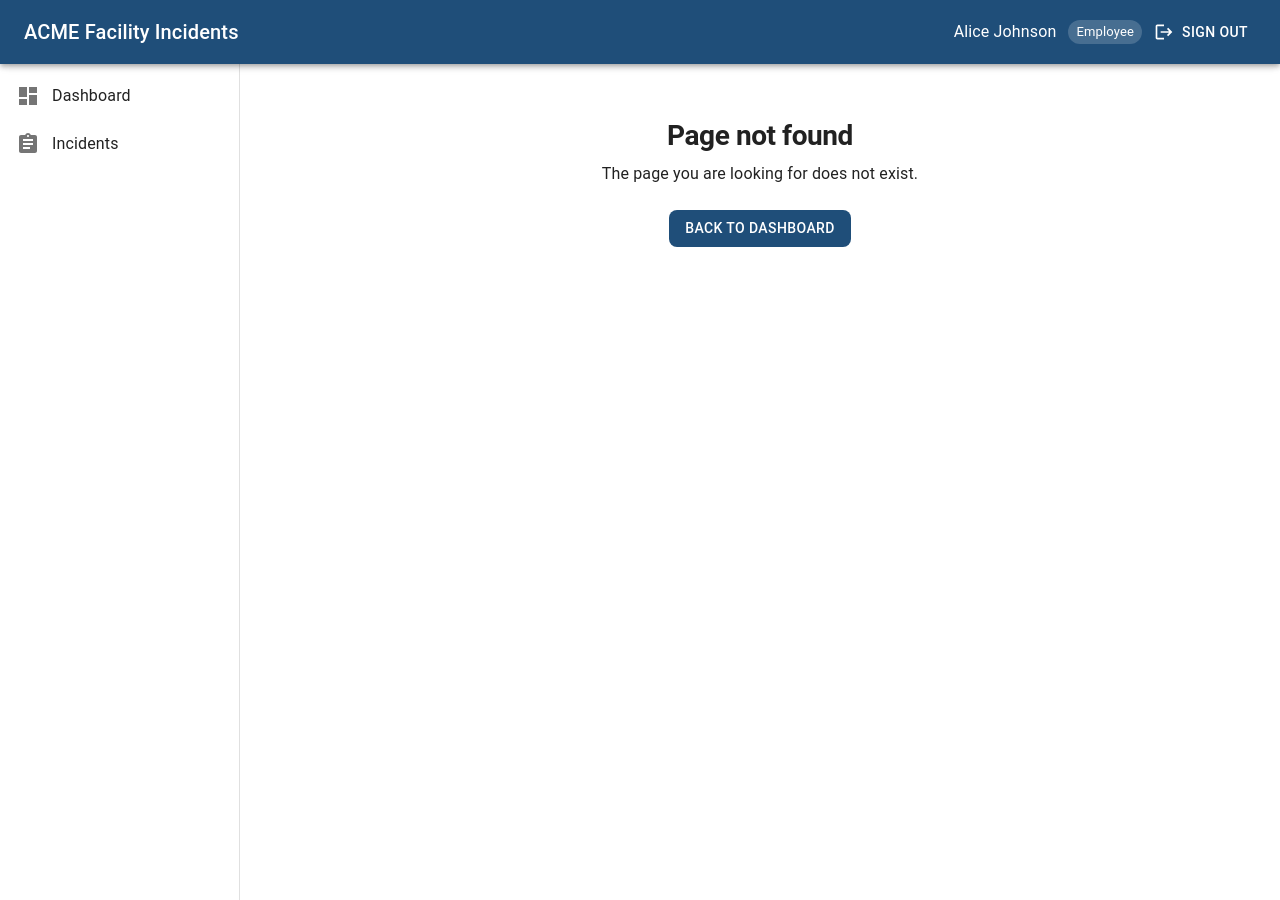
App › an unknown address shows "page not found" inside the app
expect the heading "Page not found" is shown: met, box 667,119 -> 853,152
Click the link "Back to dashboard": (760, 229) 669,210 -> 851,247
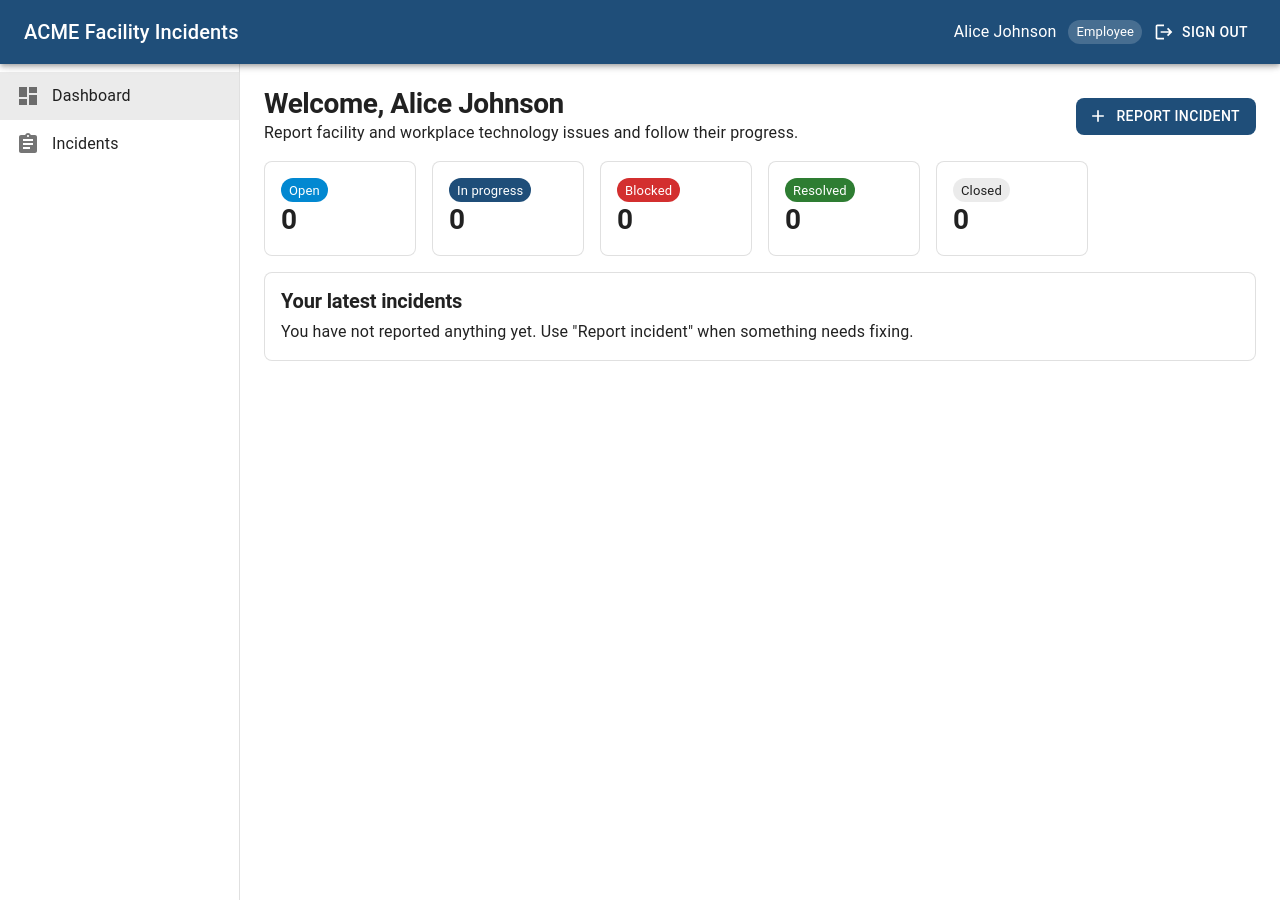
expect the heading "Welcome, Alice Johnson" is shown: met, box 264,87 -> 564,120
